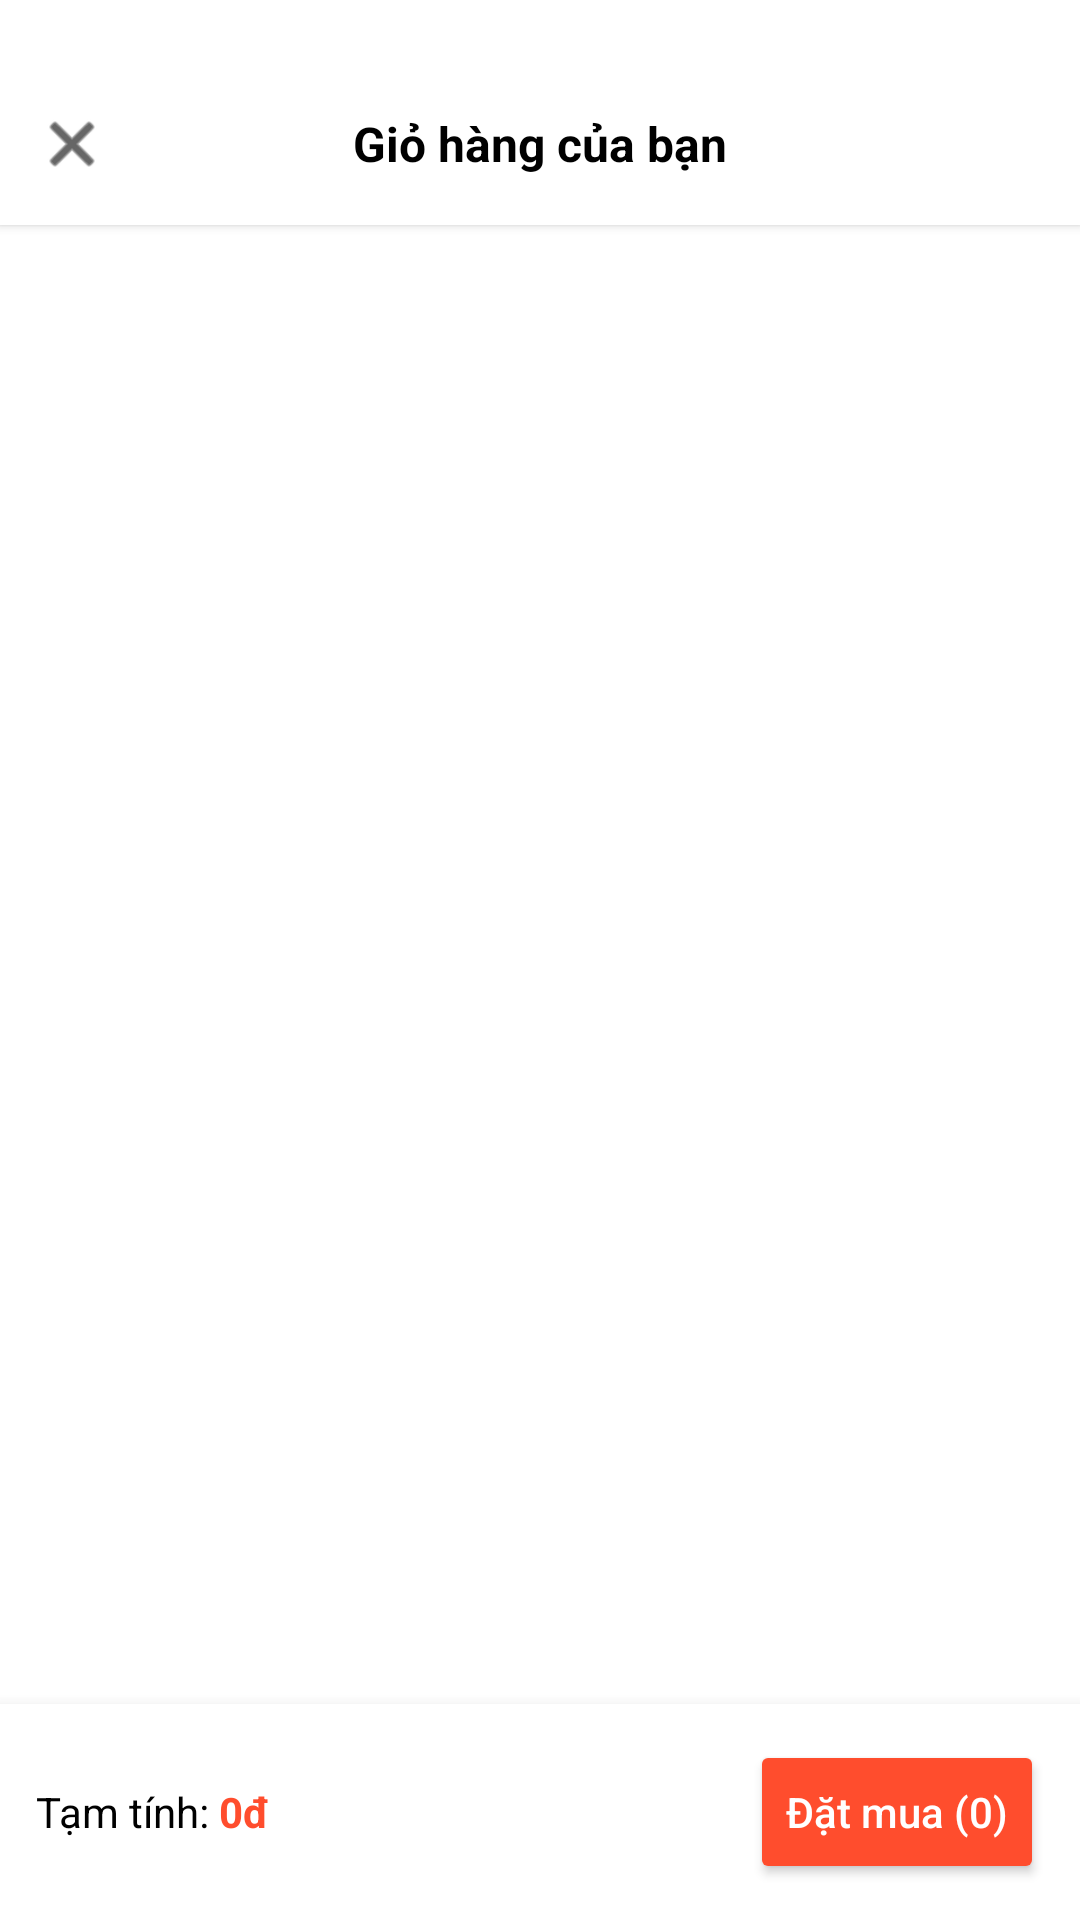

Where icons sit on this 1080 x 1920 app screen, as (x1, y1, x2, y2):
close clear cancel: (49, 121, 95, 167)
